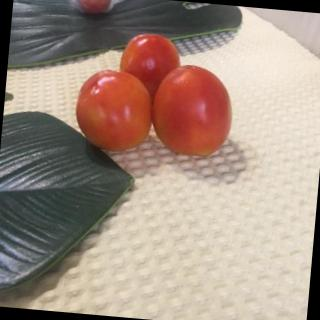Tomat: (60, 25, 266, 177)
